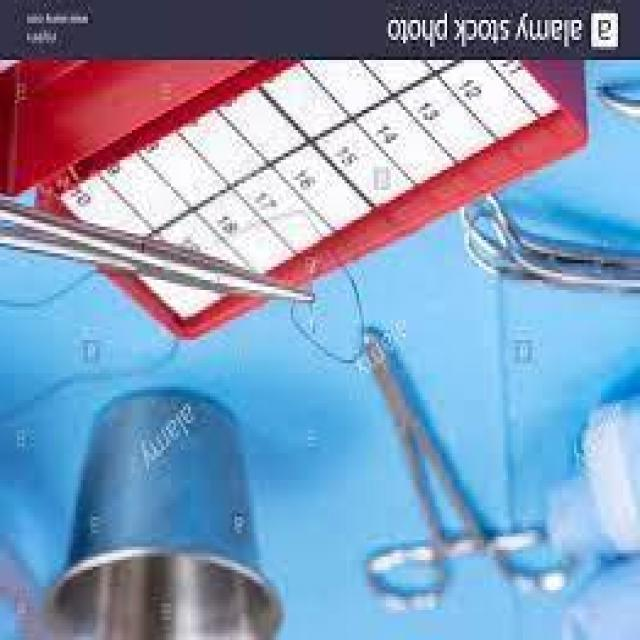Hemostat: (356, 330, 580, 617)
Needle: (306, 303, 318, 340)
Towel_clip: (464, 210, 638, 300), (459, 190, 640, 273)
